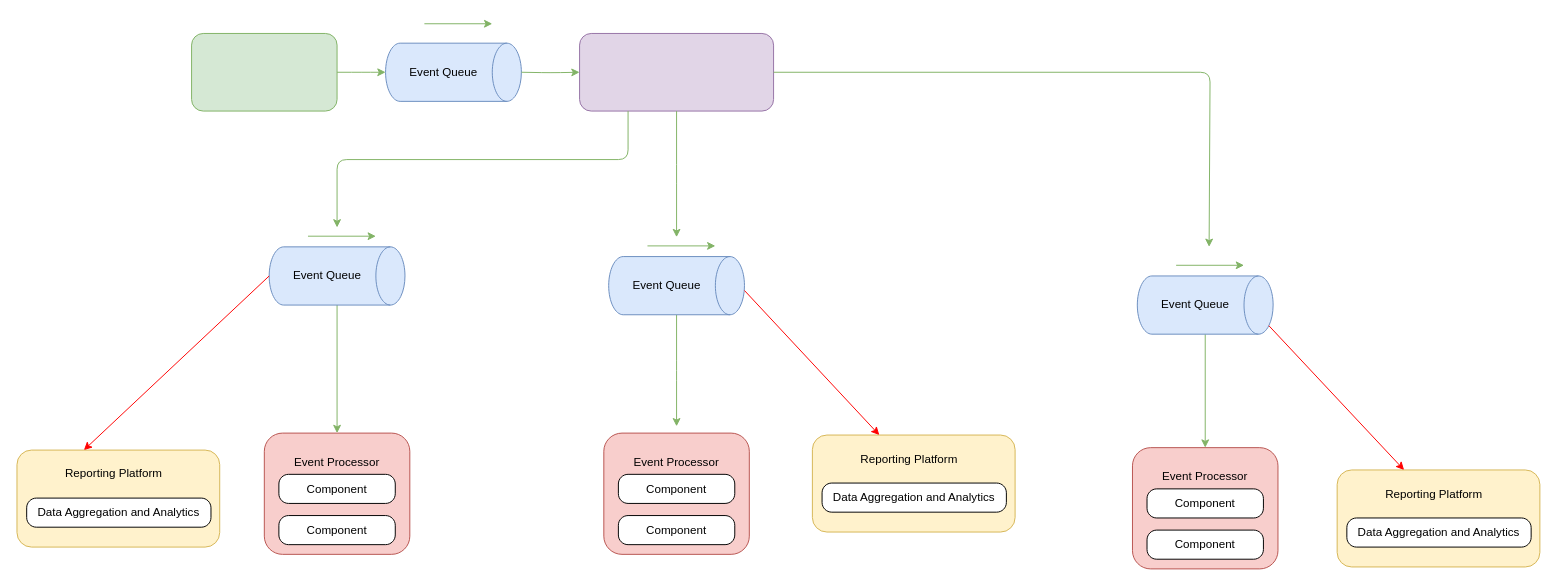
This 1558x586 diagram has some shape labels left out. Here are the shapes that lost their labels. From the top down, the centre of each, then its label:
At [264,71]: "Initiating Event".
At [676,71]: "Event Mediator".
